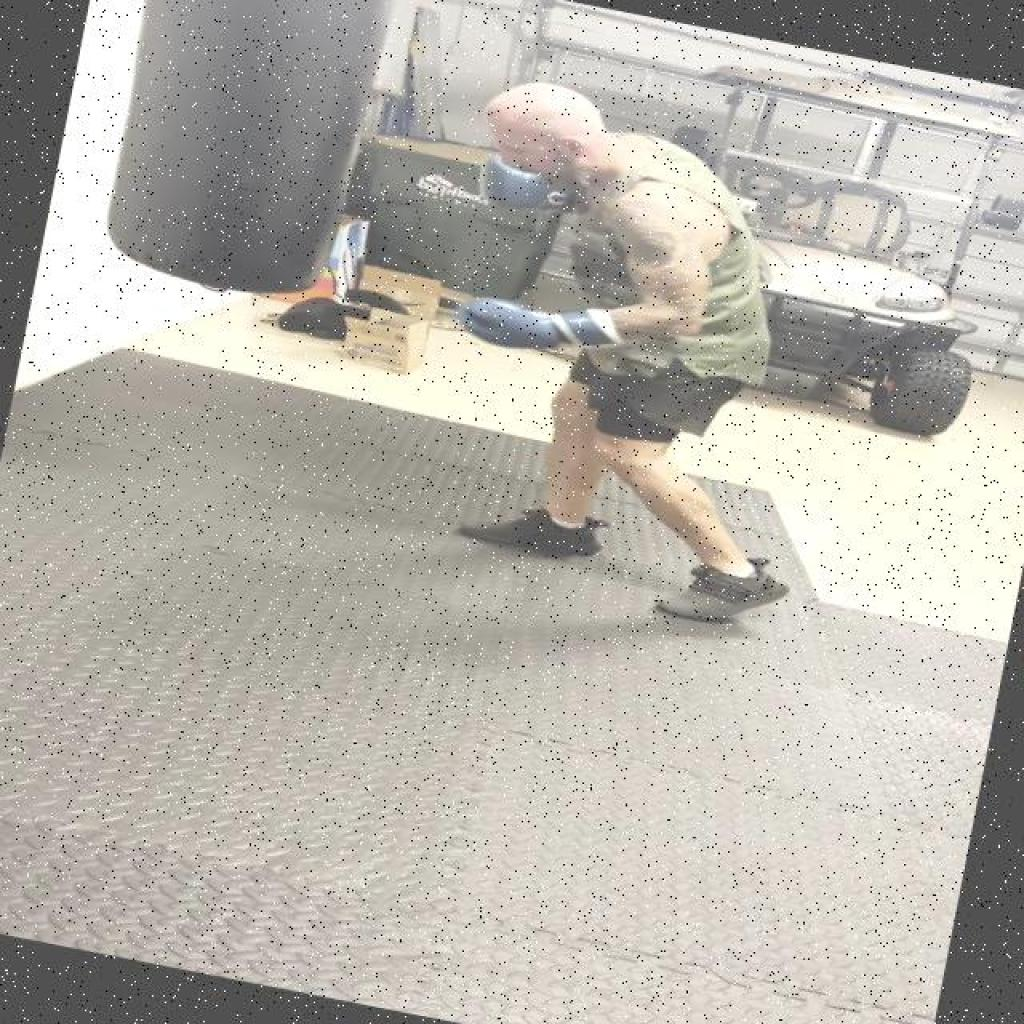bag: (93, 0, 408, 307)
uppercut: (422, 72, 789, 410)
